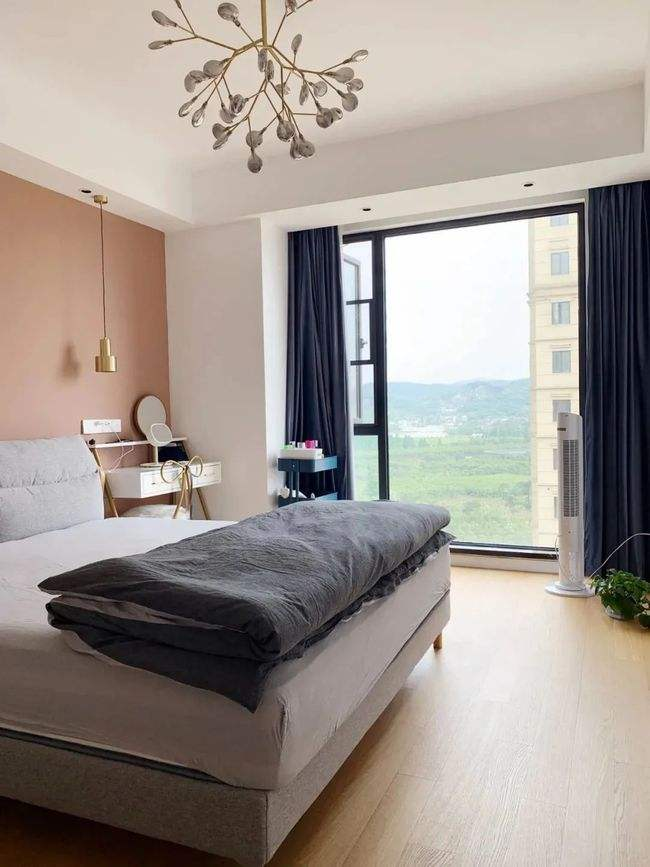床: (10, 505, 455, 834)
灯: (151, 1, 377, 173), (83, 193, 113, 382), (520, 182, 538, 194)
